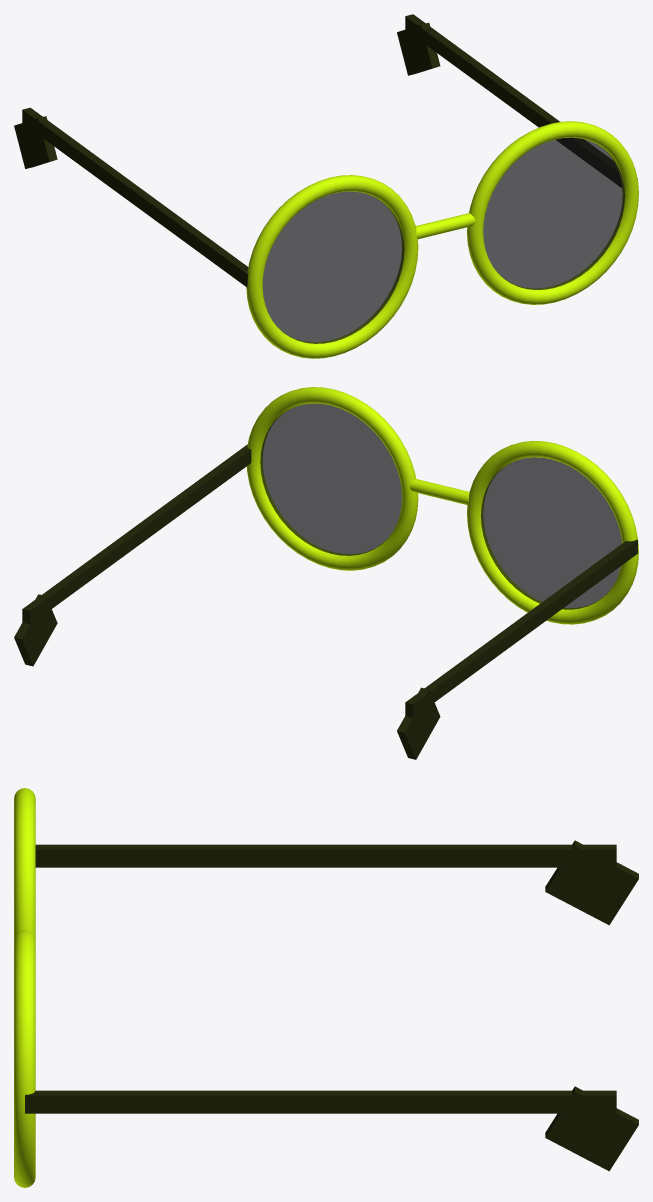
The model's file is glasses-acid.glb.
3 views of the same model, one above another, from view 1: azimuth 30°, elevation 25°; view 2: azimuth 150°, elevation 25°; view 3: azimuth 270°, elevation 25° (orthographic). The views are drawn at different scales.
Visible parts, largest first — view 1: Lens_Right, Lens_Left, Rim_Left, Rim_Right, Temple_Left, Temple_Right, Tip_Left, Tip_Right, Bridge; view 2: Lens_Right, Lens_Left, Rim_Right, Rim_Left, Temple_Left, Temple_Right, Tip_Right, Tip_Left, Bridge; view 3: Temple_Right, Temple_Left, Rim_Right, Tip_Right, Tip_Left, Rim_Left.
Part boxes in pixels (x1,y1,x2,y2): Lens_Right: [483, 137, 624, 289]; Lens_Left: [262, 191, 404, 343]; Rim_Left: [246, 175, 418, 358]; Rim_Right: [467, 121, 638, 304]; Temple_Left: [22, 107, 248, 287]; Temple_Right: [405, 14, 637, 187]; Tip_Left: [14, 116, 57, 168]; Tip_Right: [397, 22, 440, 75]; Bridge: [415, 213, 475, 239]; Lens_Right: [260, 403, 401, 555]; Lens_Left: [481, 457, 621, 609]; Rim_Right: [246, 387, 418, 570]; Rim_Left: [467, 441, 638, 624]; Temple_Left: [405, 539, 637, 717]; Temple_Right: [22, 444, 251, 624]; Tip_Right: [14, 594, 57, 666]; Tip_Left: [397, 687, 440, 759]; Bridge: [409, 479, 469, 504]; Temple_Right: [25, 1090, 616, 1113]; Temple_Left: [35, 844, 616, 867]; Rim_Right: [14, 930, 35, 1187]; Tip_Right: [545, 1086, 638, 1171]; Tip_Left: [545, 840, 638, 925]; Rim_Left: [14, 788, 35, 939].
Size of the model in its own units: 0.1205 by 0.0524 by 0.1267.
